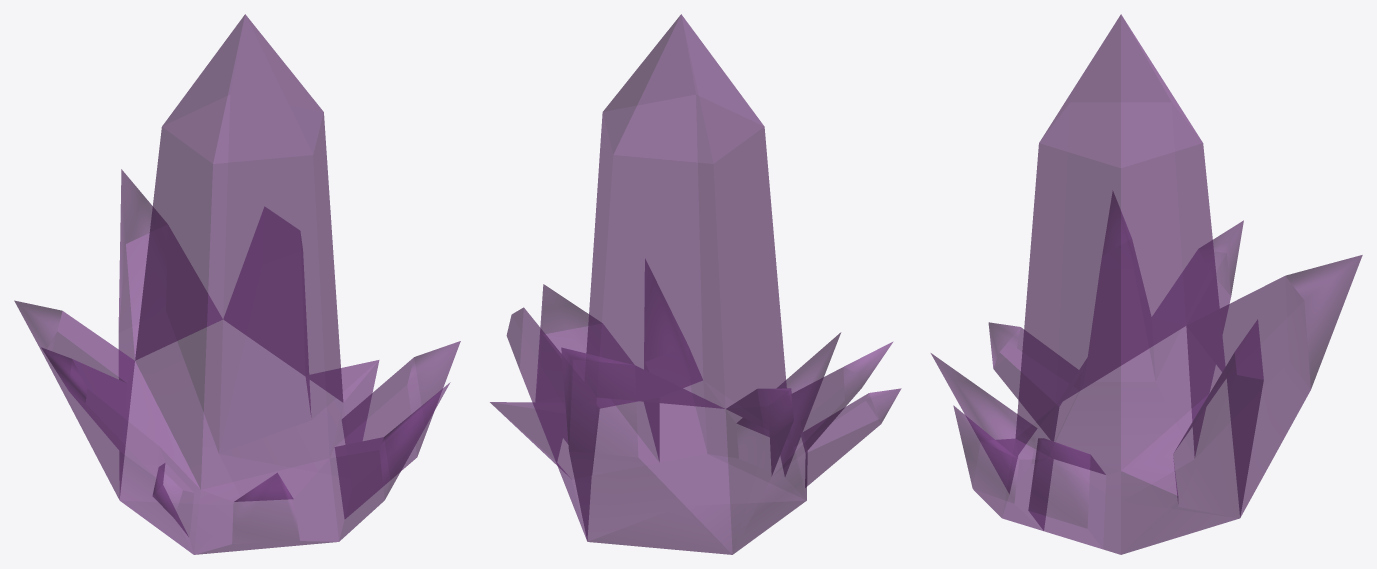
The model's file is weeblcrystal.fbx.
3 renders of one model, left to right at view 1: azimuth 30°, elevation 25°; view 2: azimuth 150°, elevation 25°; view 3: azimuth 270°, elevation 25°, orthographic.
Parts seen in each view (by area): view 1: pSphere1; view 2: pSphere1; view 3: pSphere1.
Part boxes in pixels (bbox=[...]): pSphere1: bbox=[14, 14, 460, 554]; pSphere1: bbox=[490, 14, 901, 554]; pSphere1: bbox=[930, 14, 1362, 554].
Bounding box in the file's own units: 110 × 134 × 108.
